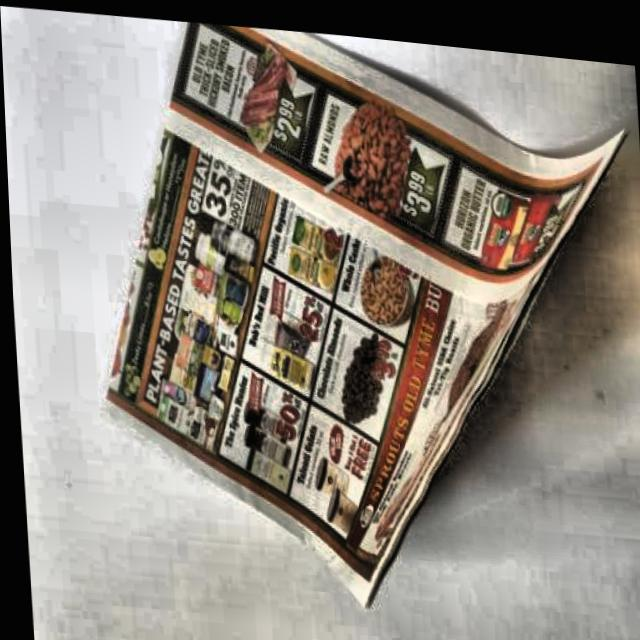Paper: (79, 6, 640, 629)
